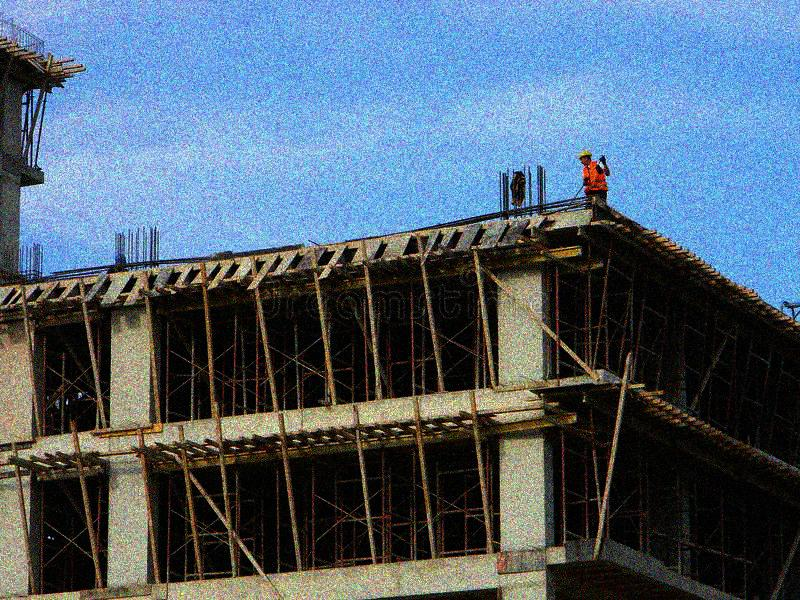helmet: (578, 148, 594, 165), (115, 253, 128, 266)
